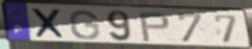7: (176, 11, 205, 44), (213, 14, 239, 44)
9: (106, 9, 135, 43)
G: (68, 9, 102, 41)
P: (137, 12, 172, 43)
X: (29, 8, 70, 41)
